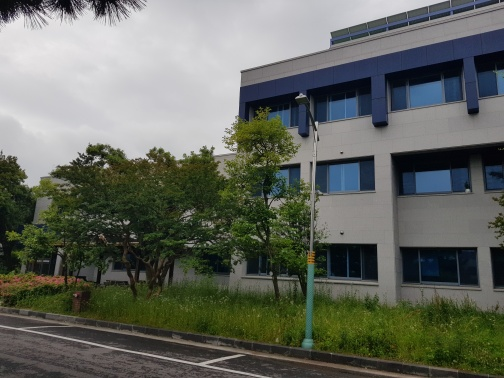College of Social Sciences: (238, 15, 499, 311), (235, 42, 480, 141)
